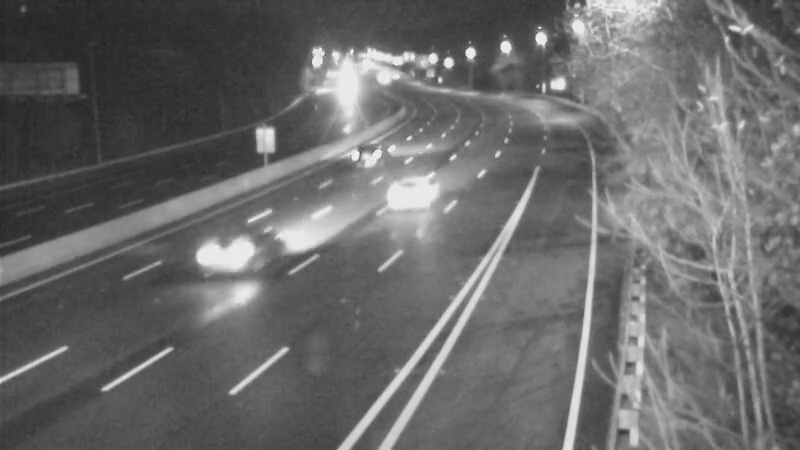vehicle: (328, 117, 408, 197), (370, 159, 450, 239), (183, 209, 263, 289)
